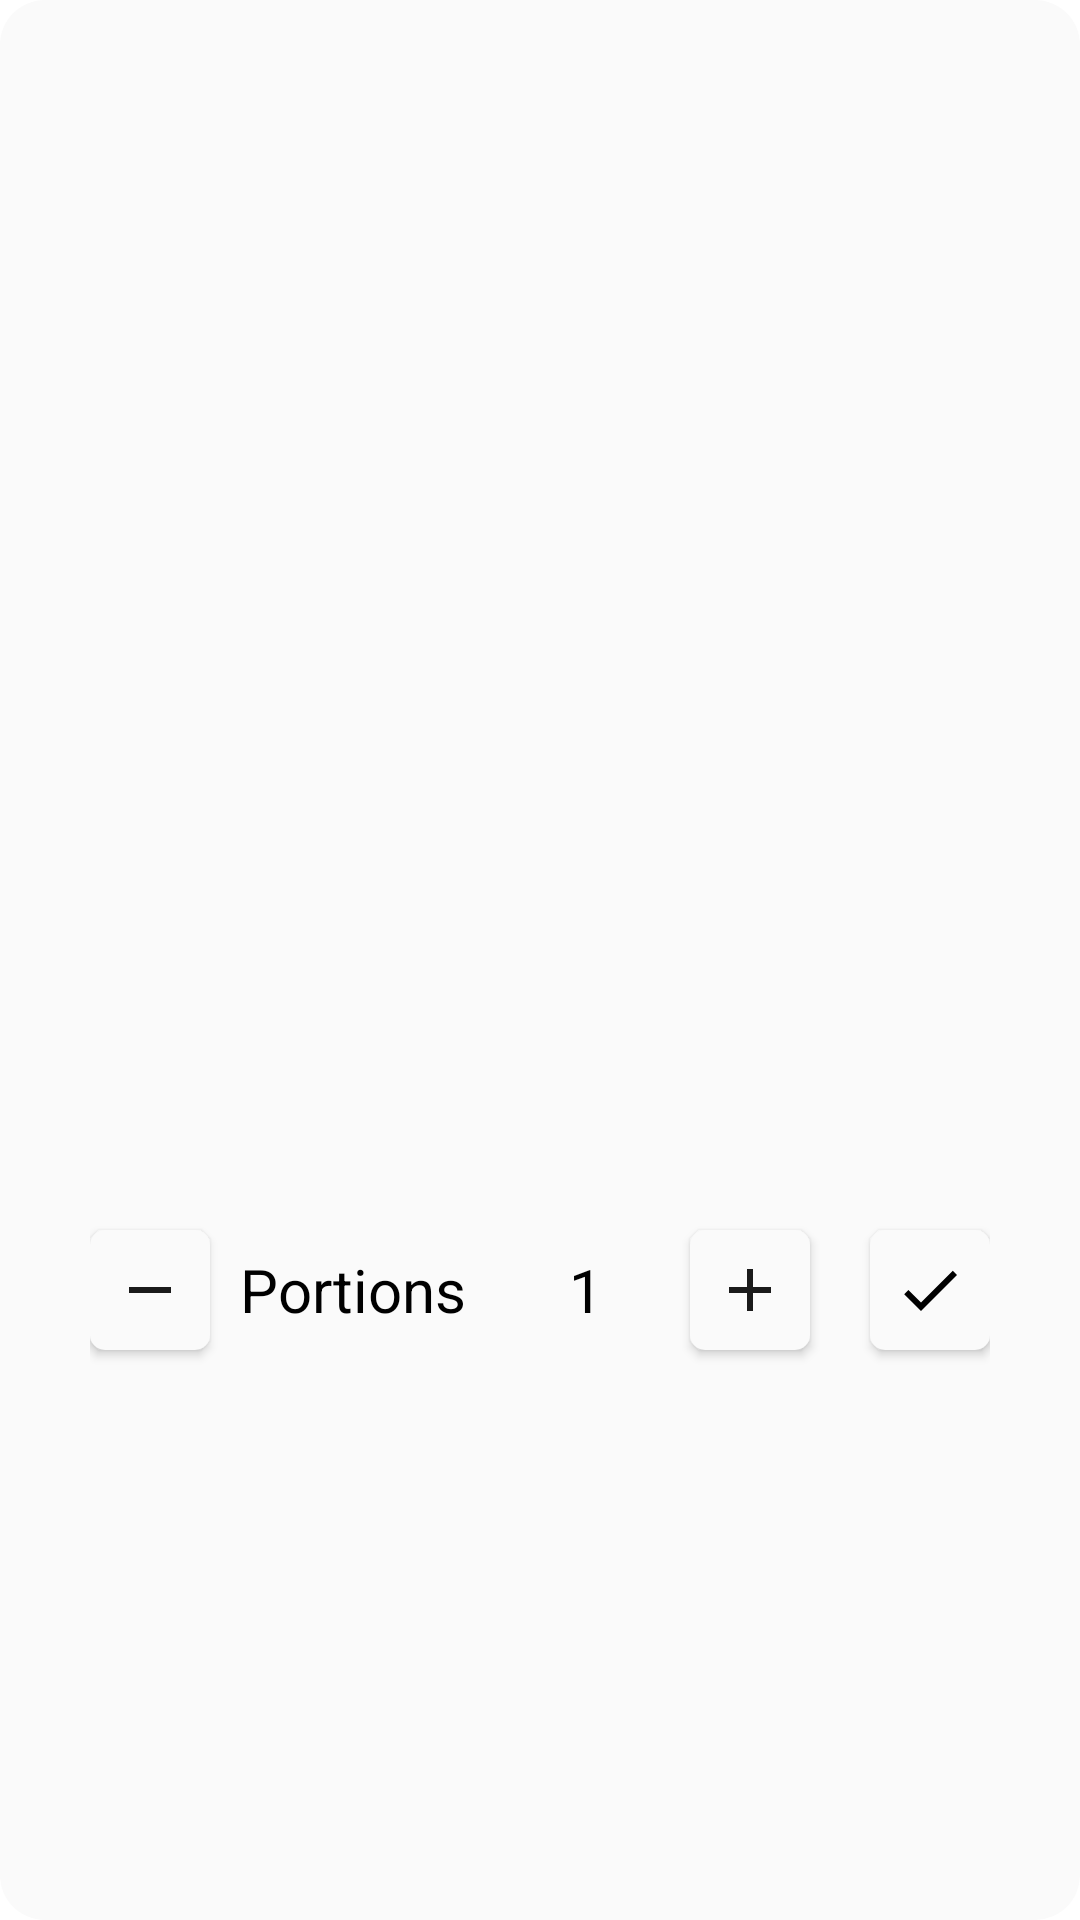

Named icons in this screenshot (1080*1920) and their centers, (x,y):
add: (750,1309)
done: (931,1310)
remove: (149,1318)
